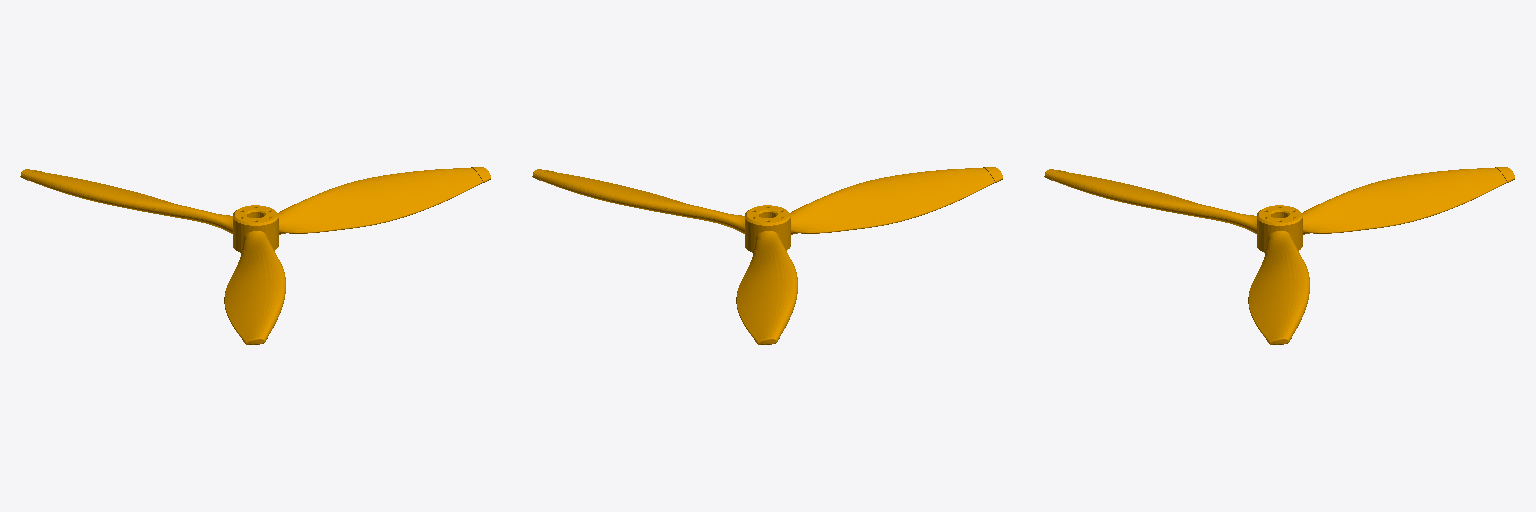
robot.urdf — HELICE_PRUEBA:
<?xml version='1.0' encoding='utf-8'?>
<robot name="HELICE_PRUEBA">
    <link name="Helice">
        <inertial>
            <origin xyz="-2.163485048685316e-06 1.688710759117138e-06 0.5987460758831048" rpy="0.0 0.0 0.0" />
            <mass value="18362.584052168284" />
            <inertia ixx="225635.57993678894" iyy="225635.5896739663" izz="449746.1094179103" ixy="-0.20635406513458465" iyz="0.01684386478246207" ixz="0.015233134235333162" />
        </inertial>
        <visual name="Helice_visual">
            <origin xyz="0.0 0.0 0.0" rpy="0.0 0.0 0.0" />
            <geometry>
                <mesh filename="meshes/7in_3blades.stl" scale="0.001 0.001 0.001" />
            </geometry>
        </visual>
        <collision name="Helice_collision">
            <origin xyz="0.0 0.0 0.0" rpy="0.0 0.0 0.0" />
            <geometry>
                <mesh filename="meshes/7in_3blades.stl" scale="0.001 0.001 0.001" />
            </geometry>
        </collision>
    </link>
</robot>

--- Render facts (derived) ---
3 views of the same robot in one strip: view 1: azimuth 30°, elevation 25°; view 2: azimuth 150°, elevation 25°; view 3: azimuth 270°, elevation 25° (orthographic).
Model HELICE_PRUEBA with 1 links and 0 joints (none), rooted at Helice, posed all joints at 0.
Visible links, largest first — view 1: Helice; view 2: Helice; view 3: Helice.
Link boxes in pixels (x1=…): Helice: x1=20, y1=167, x2=490, y2=344; Helice: x1=532, y1=167, x2=1002, y2=344; Helice: x1=1044, y1=167, x2=1514, y2=344.
Bounding box of the posed robot: 0.1415 × 0.1626 × 0.012 m (x, y, z).
1 mesh visuals loaded from 1 distinct referenced files (1 binary STL).
